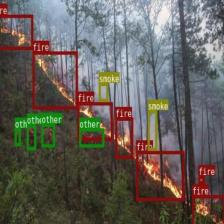fire: (32, 51, 77, 109), (136, 151, 184, 200), (77, 102, 112, 140), (0, 14, 33, 48), (192, 194, 224, 224), (116, 117, 132, 158), (198, 175, 205, 183)
smoke: (148, 110, 156, 150), (98, 82, 107, 101)
